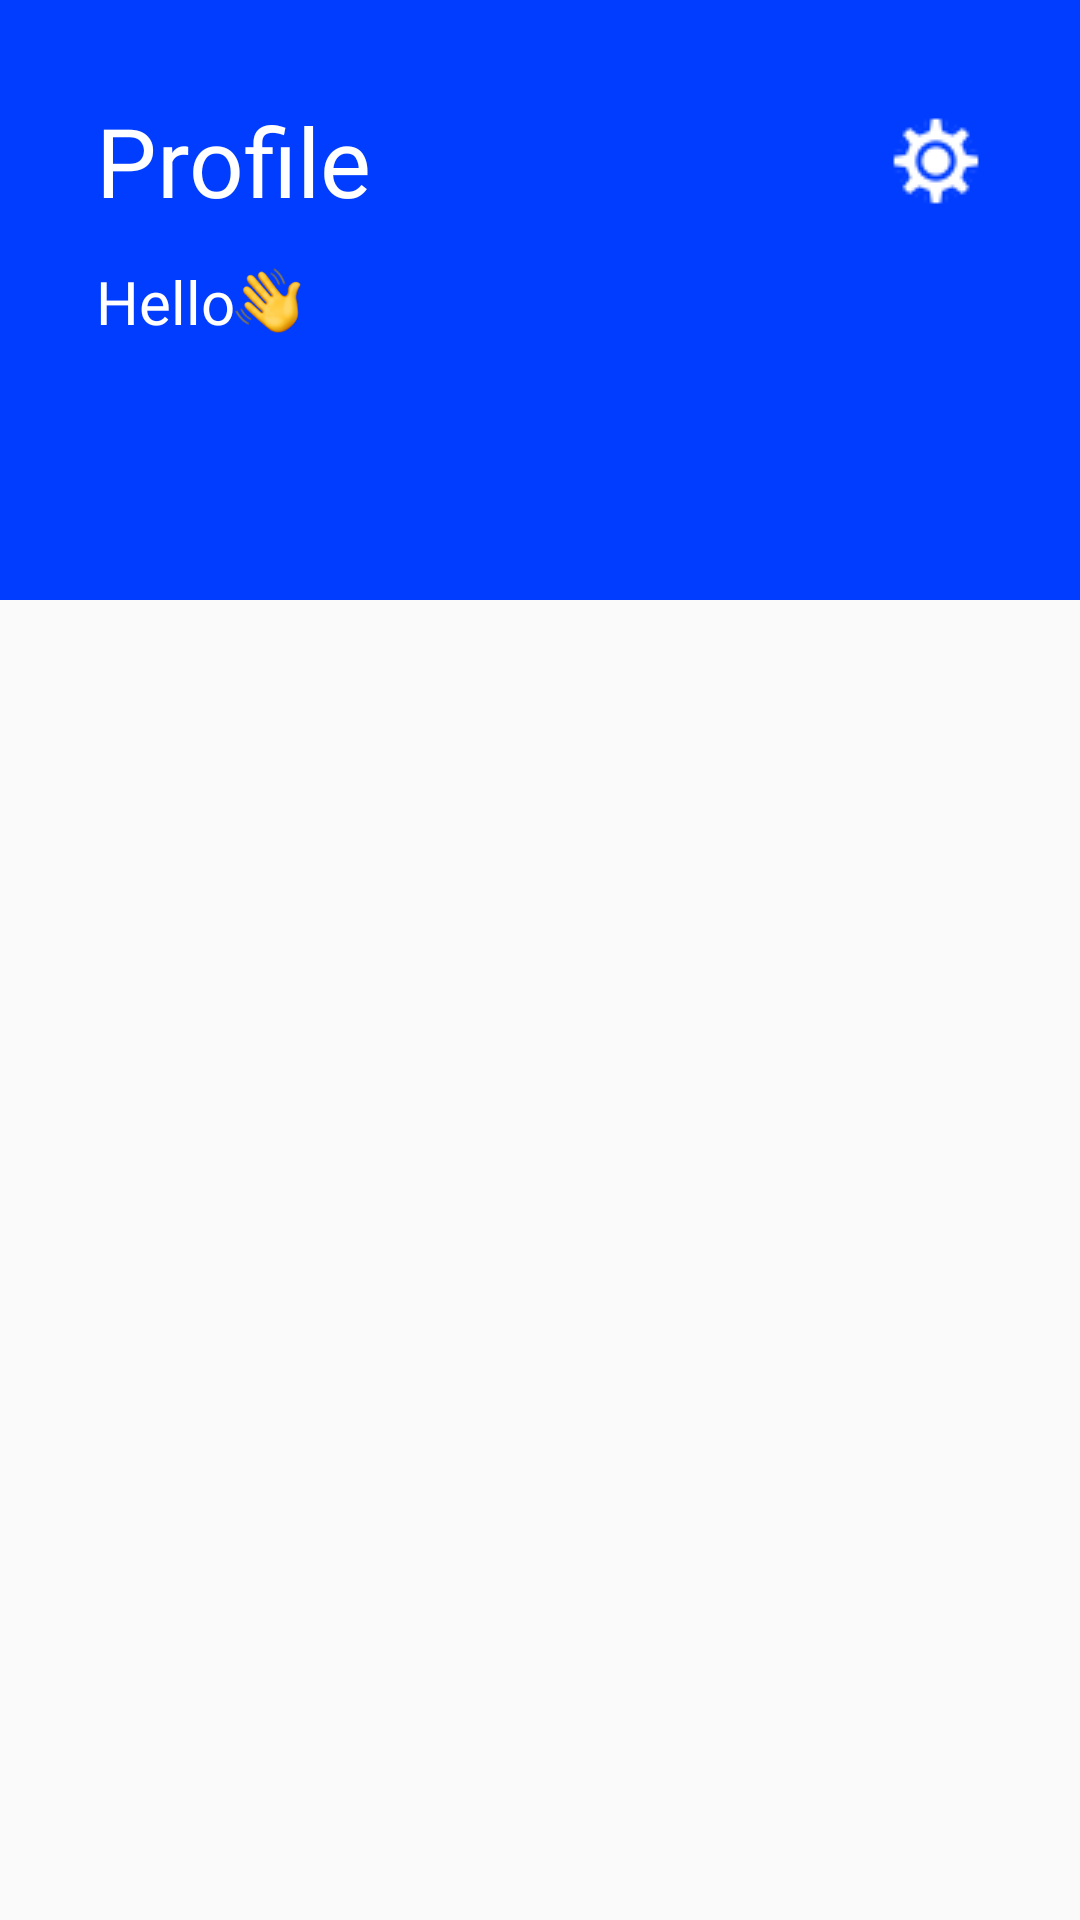

Screen size 1080 x 1920. Icon name, then its center in pixels as [x,y]:
settings: [936,161]
